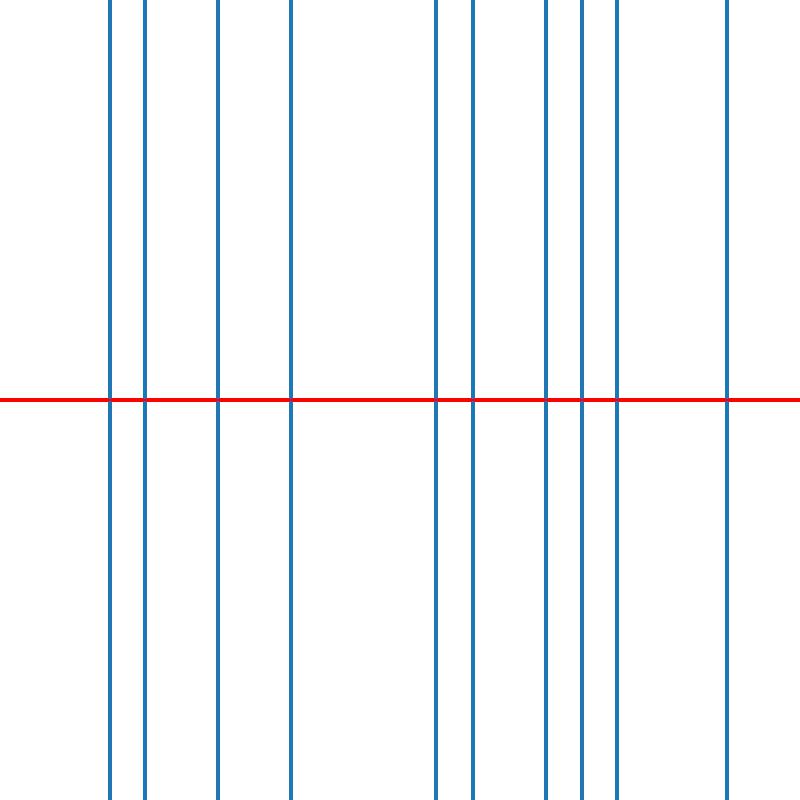root: (541, 396, 549, 404), (432, 396, 440, 404), (141, 396, 149, 404), (214, 396, 221, 404), (614, 396, 621, 404), (723, 396, 730, 404), (578, 396, 585, 404), (287, 396, 294, 404), (105, 396, 112, 404), (469, 396, 476, 404)
